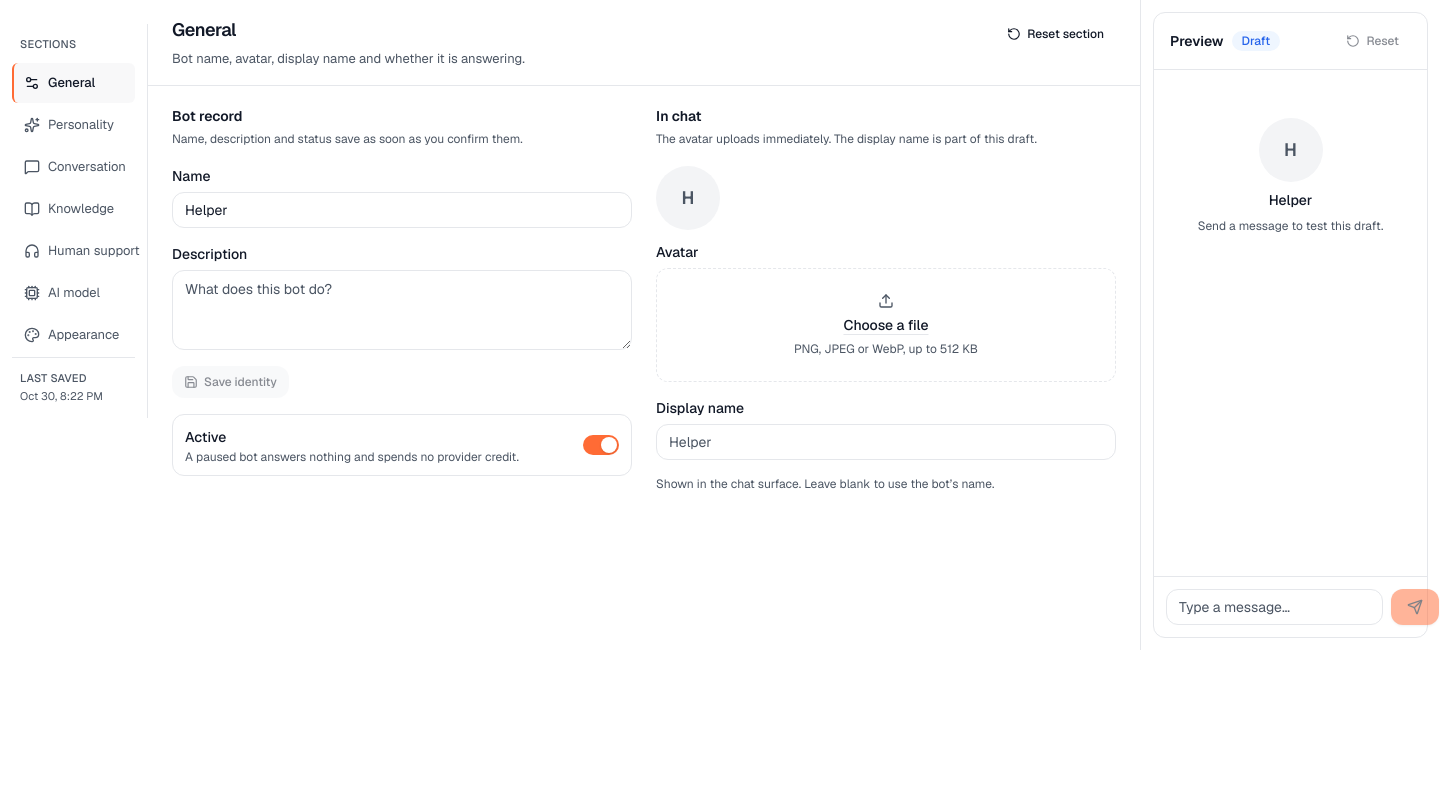
Test: BotConfigTabs — draft lifecycle › discard restores the saved value
Type "Ada" into the field labelled "Display name". click: [886, 442]
box: [656, 424, 1116, 460]
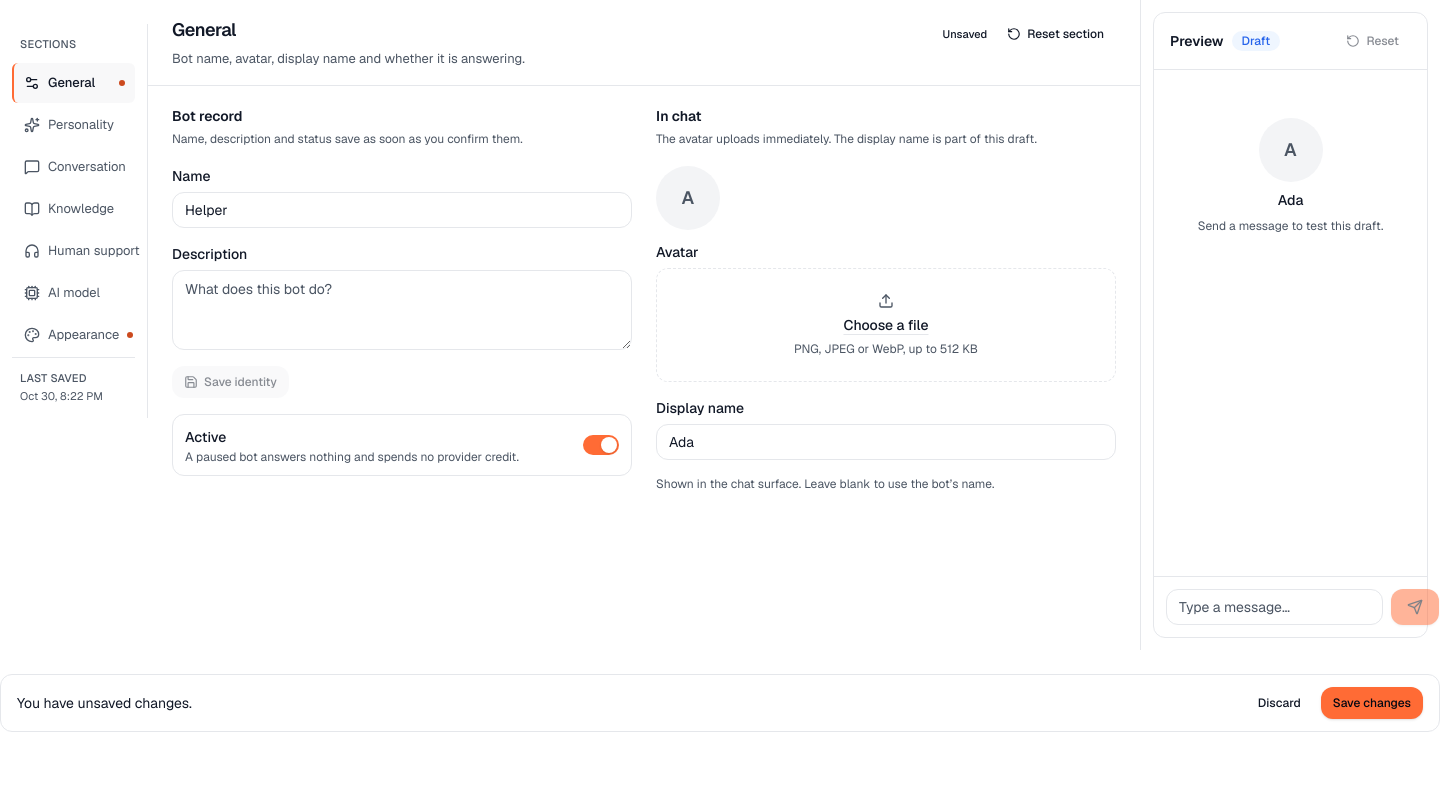
Click the button "Discard". click: [1279, 703]
box: [1246, 687, 1313, 719]
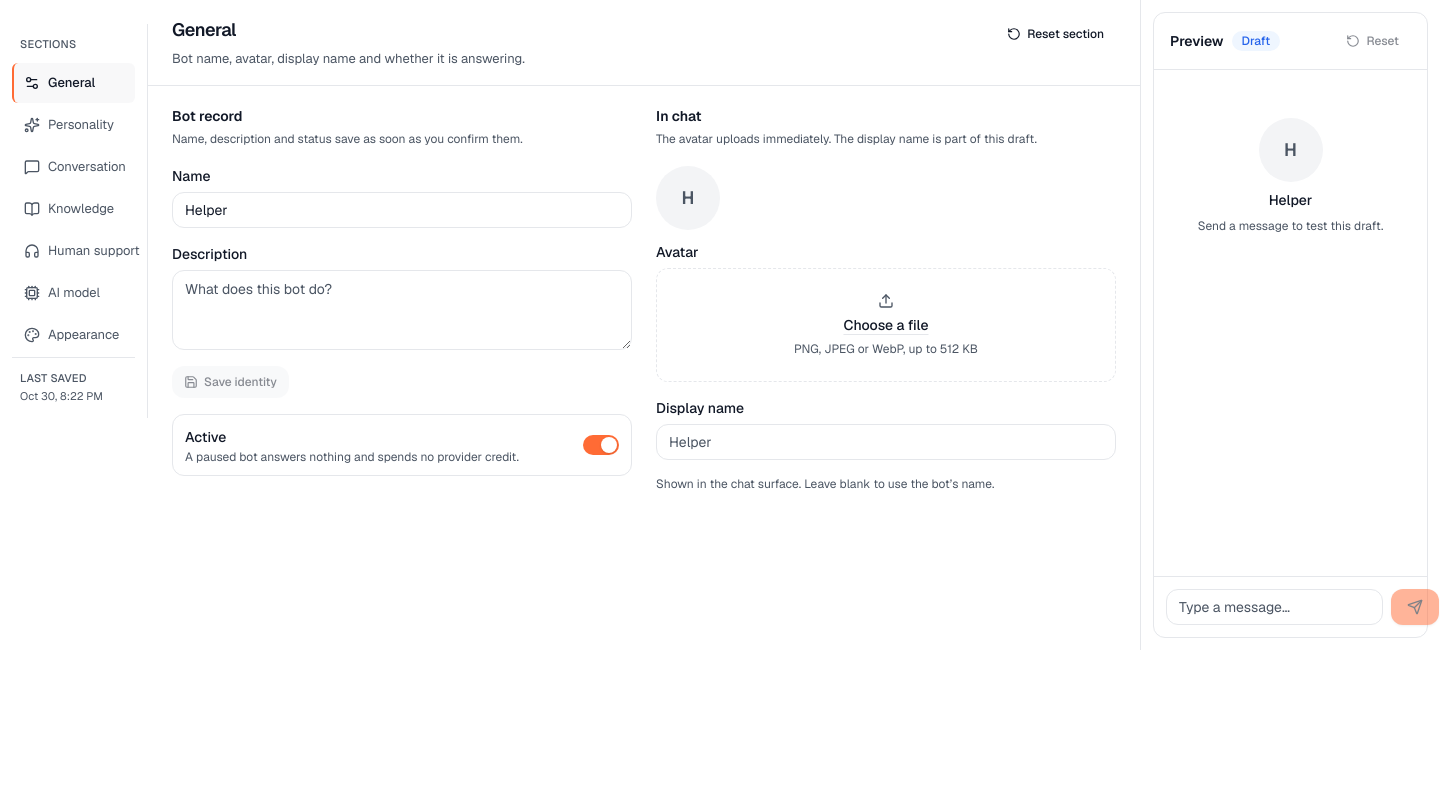
Expected: the text "You have unsaved changes." is gone
Expected: the field labelled "Display name" is empty, [656, 424, 1116, 460]
